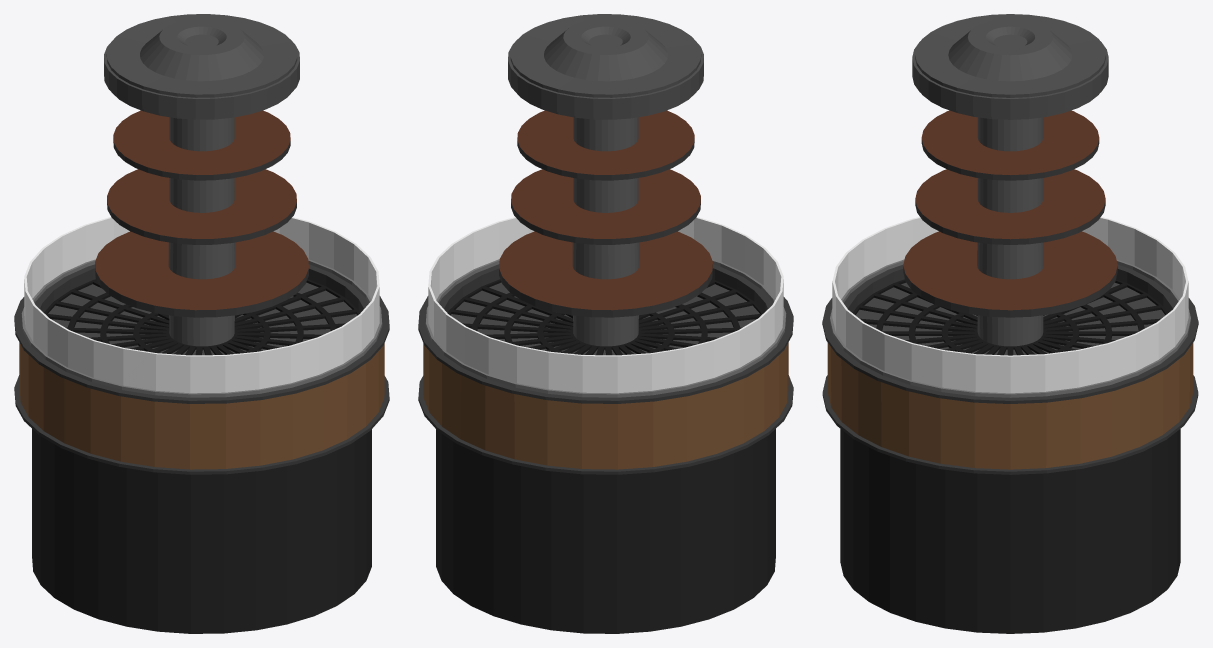
The model's file is 360 Cooler.fbx.
3 renders of one model, left to right at view 1: azimuth 30°, elevation 25°; view 2: azimuth 150°, elevation 25°; view 3: azimuth 270°, elevation 25°, orthographic.
Visible parts, largest first — view 1: 360 Fridge/Cooler; view 2: 360 Fridge/Cooler; view 3: 360 Fridge/Cooler.
Part boxes in pixels (<box>): 360 Fridge/Cooler: <box>14,14,389,633</box>; 360 Fridge/Cooler: <box>418,14,793,633</box>; 360 Fridge/Cooler: <box>822,14,1198,633</box>.
Bounding box in the file's own units: 123 × 190 × 123.
Materials: 3 (2 with a texture image).
